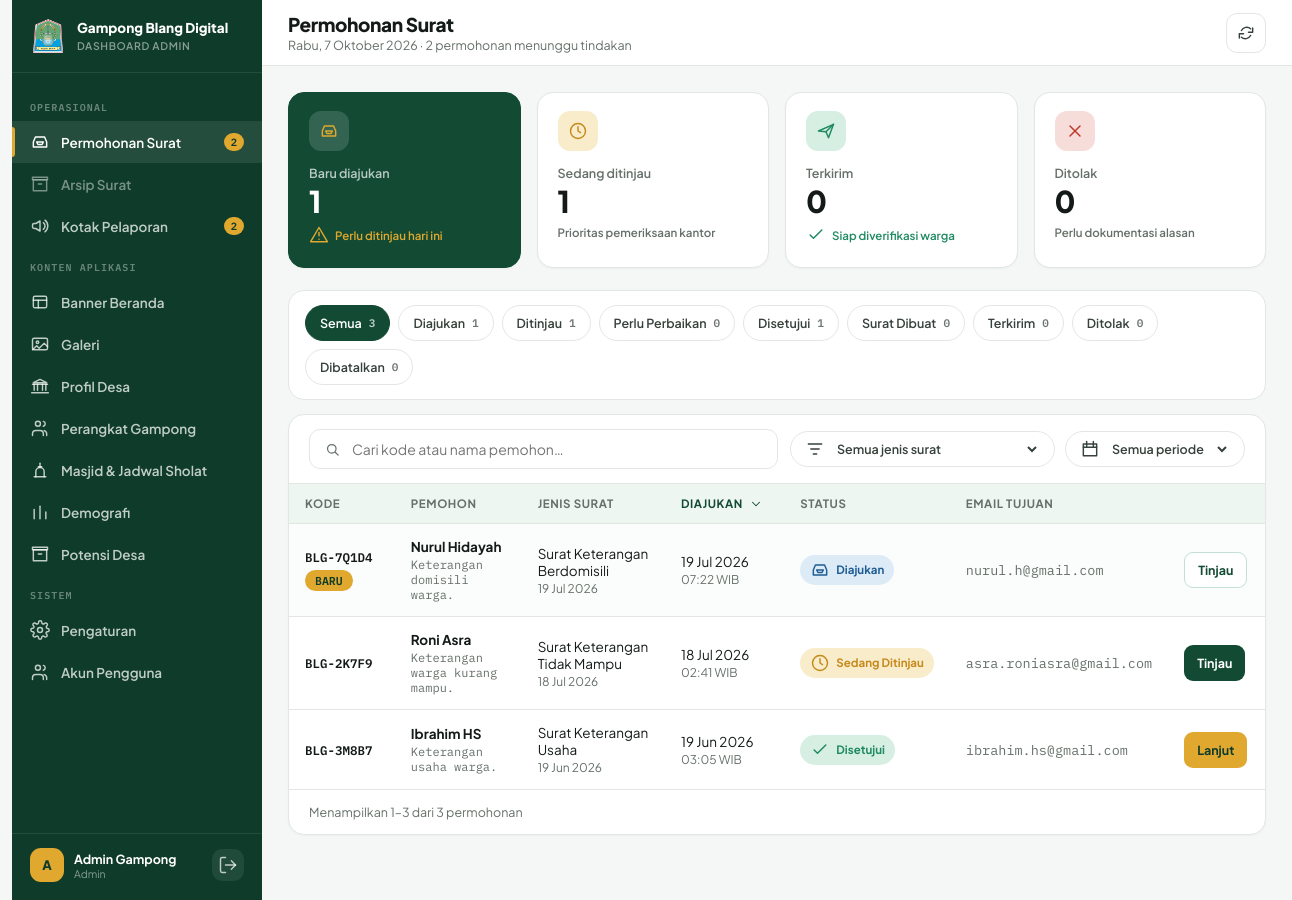
Scenario: profile settings › opens from the profile footer and saves the display name
Click the button with aria-label "edit profil pengguna". click: [116, 865]
box: [30, 848, 202, 882]
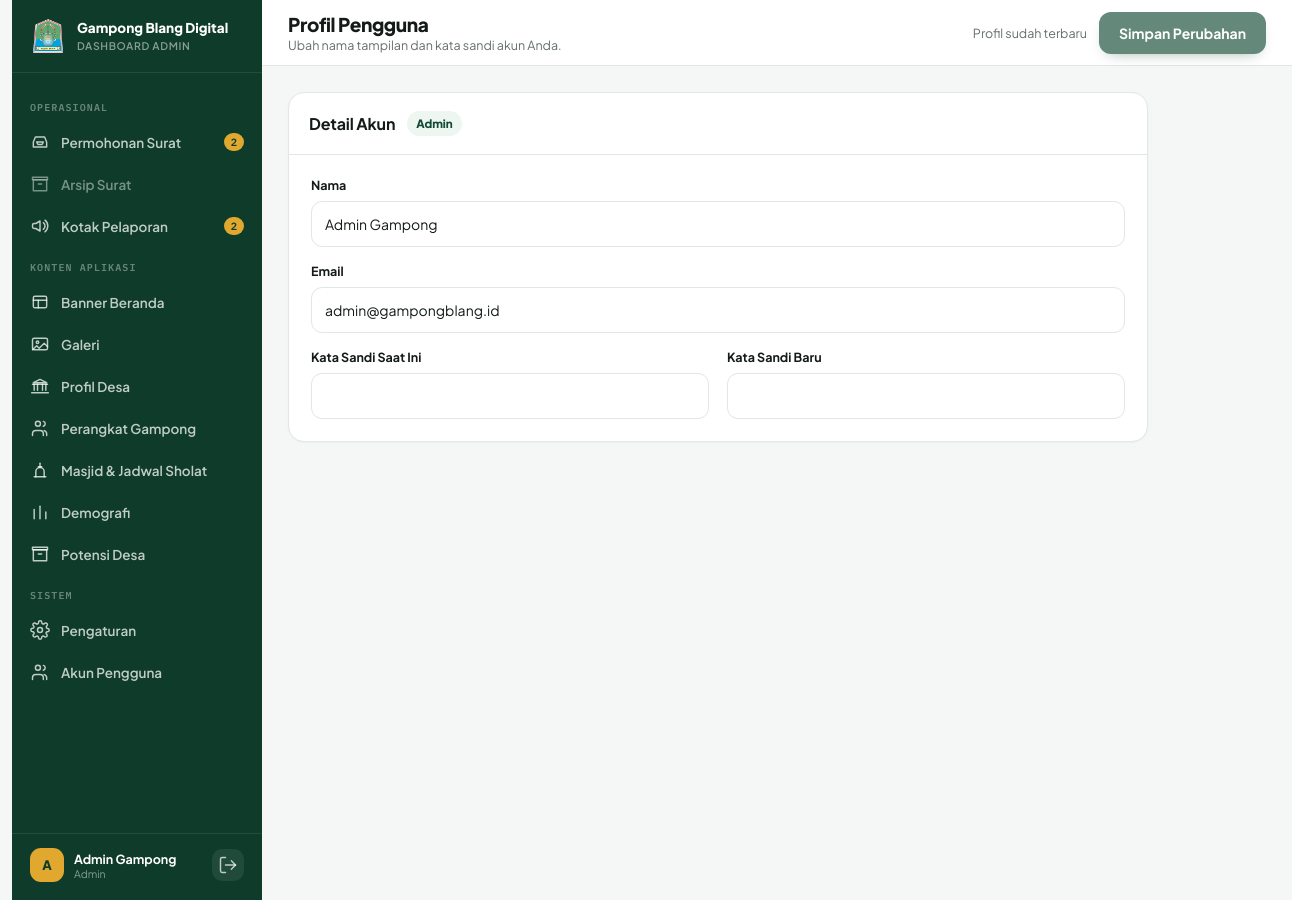
Check: the heading "Profil Pengguna" is shown, box [288, 12, 428, 36]
Replace the text in the field labelled "Nama" with "Admin Baru". click: [718, 224]
box: [311, 201, 1125, 247]
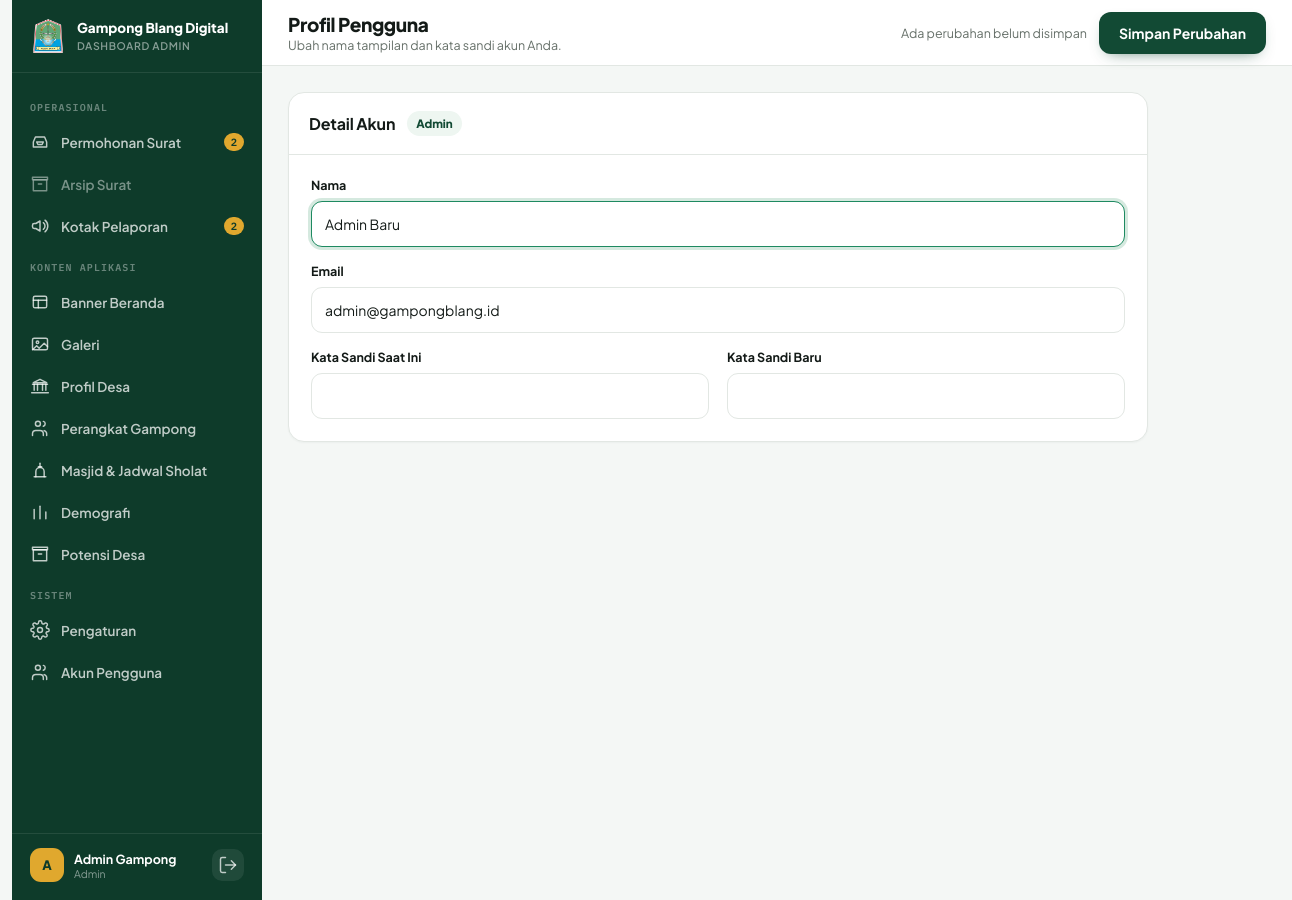
Click the button "Simpan Perubahan". click: [1182, 32]
box: [1099, 12, 1266, 54]
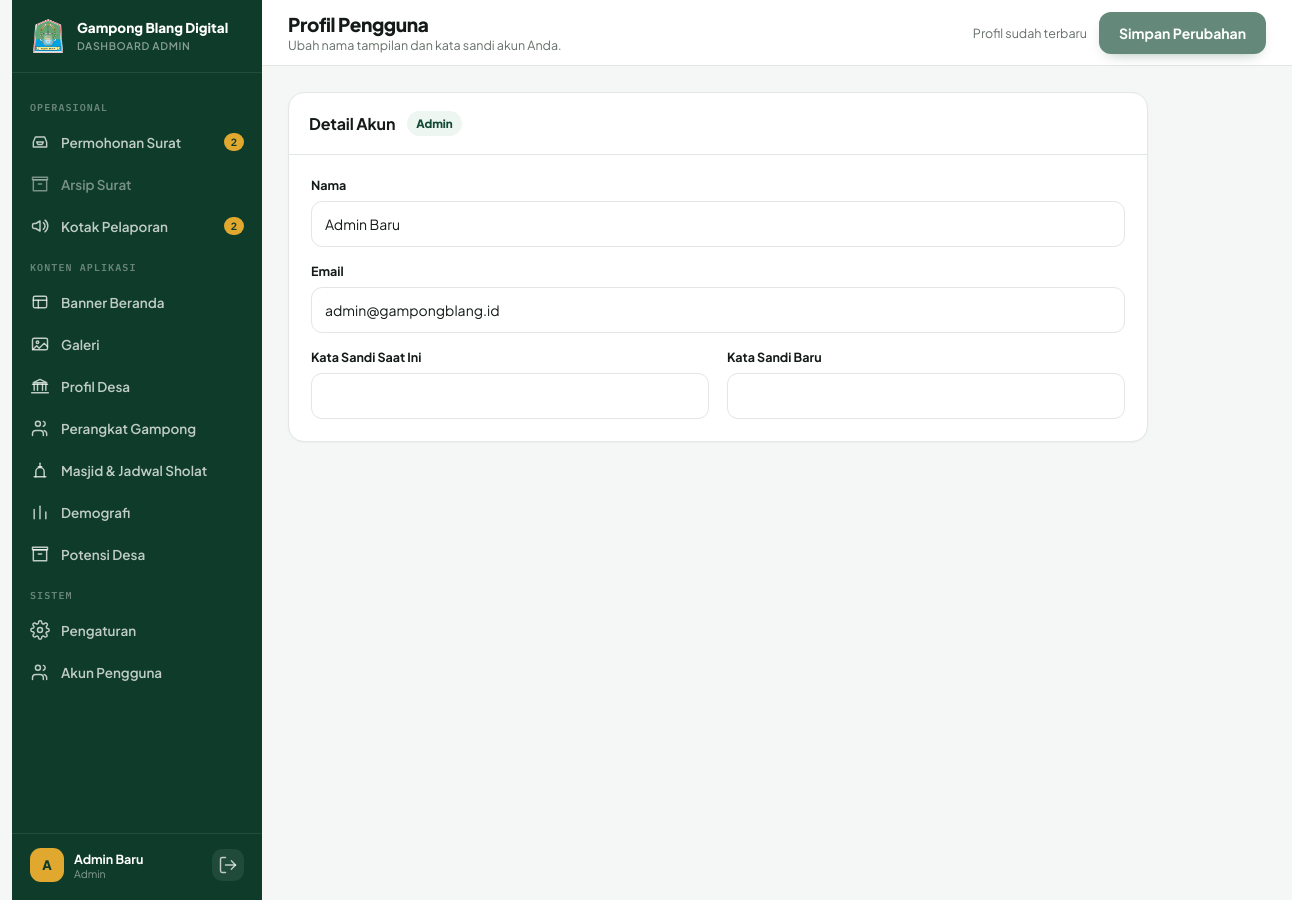
Check: the text "Admin Baru" is shown, box [74, 850, 143, 866]
